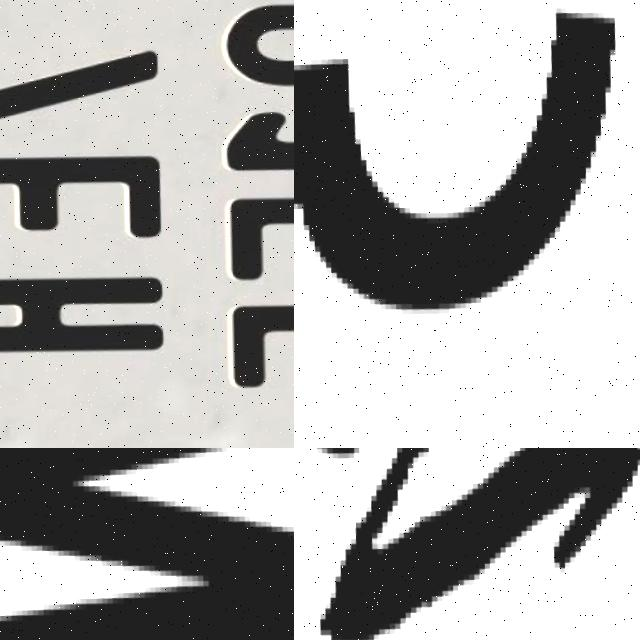0: (219, 0, 294, 93)
1: (225, 79, 294, 177)
3: (294, 0, 640, 347)
7: (0, 23, 175, 146)
E: (0, 135, 175, 258), (227, 169, 294, 292), (229, 275, 294, 401)
H: (0, 255, 184, 374)
N: (294, 448, 640, 640)
W: (0, 448, 294, 640)
